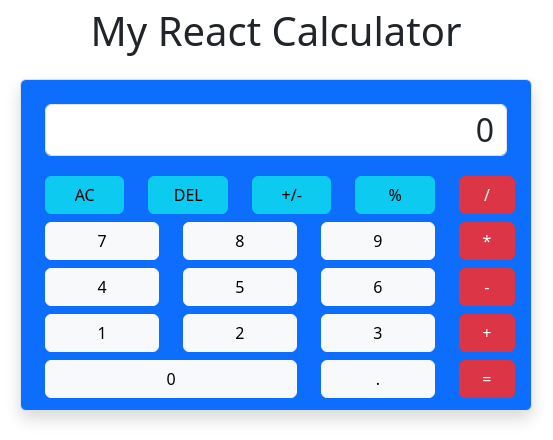
Scenario: Calculator App › should multiply two numbers
The image size is (553, 440).
Click on the number buttons to input 5 and 3
Click the button "5" at (240, 287), box x1=183 y1=268 x2=297 y2=306
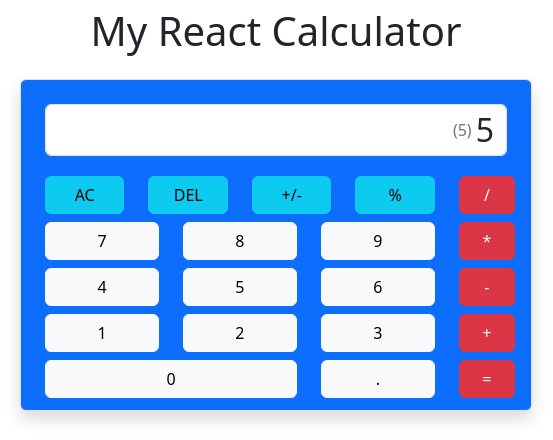
Click the button "*" at (487, 241), box x1=459 y1=222 x2=515 y2=260
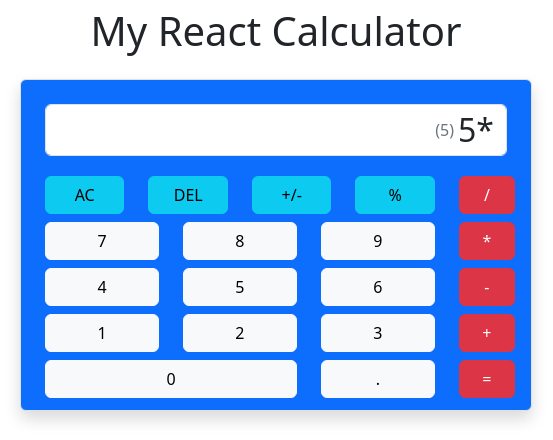
Click the button "3" at (378, 333), box x1=321 y1=314 x2=435 y2=352
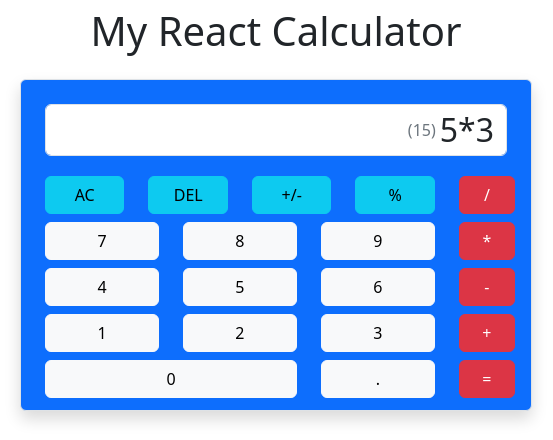
Click the button "=" at (487, 379), box x1=459 y1=360 x2=515 y2=398
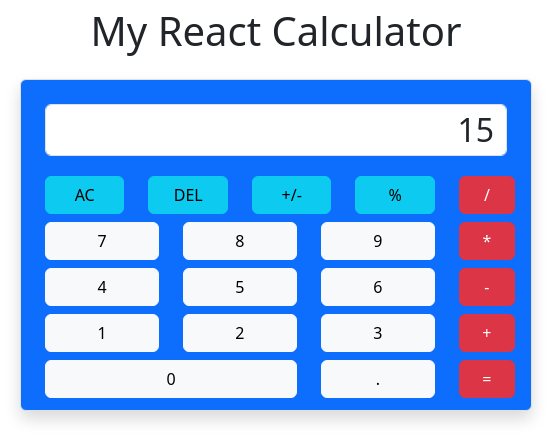
Now the text "15" is shown, box x1=457 y1=111 x2=494 y2=149
